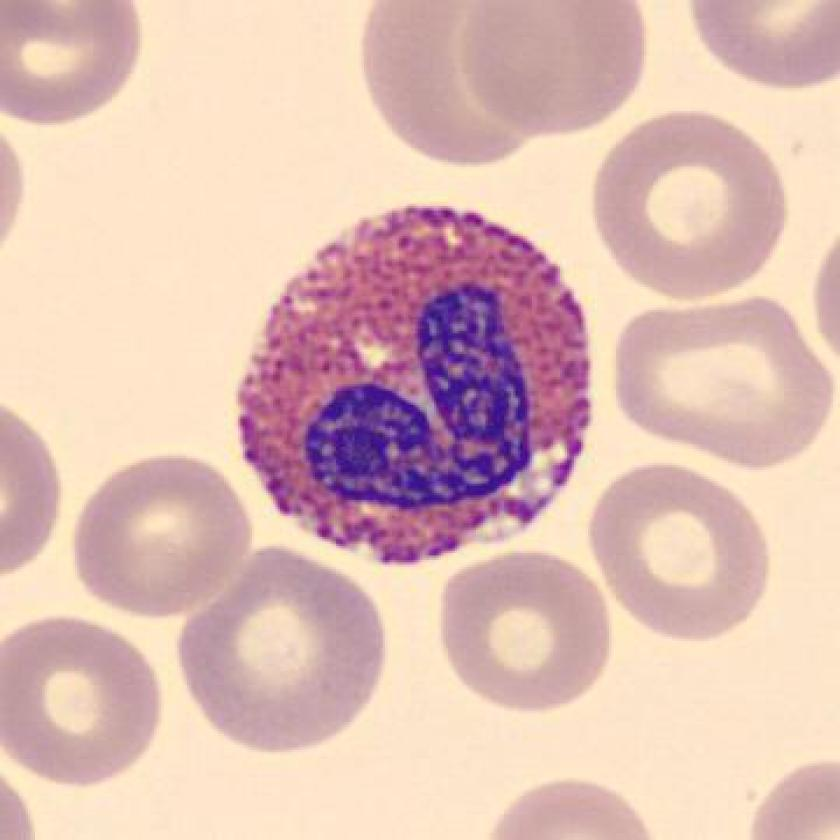eosinophil: (220, 188, 610, 575)
